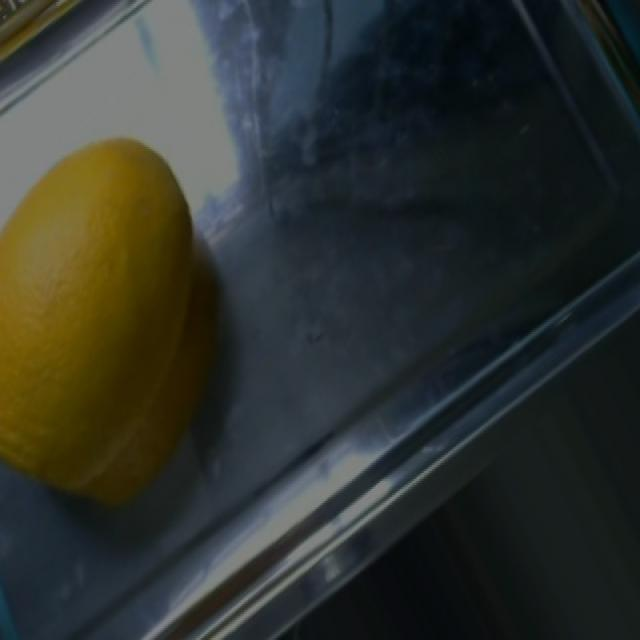Fruit: (0, 115, 216, 449)
